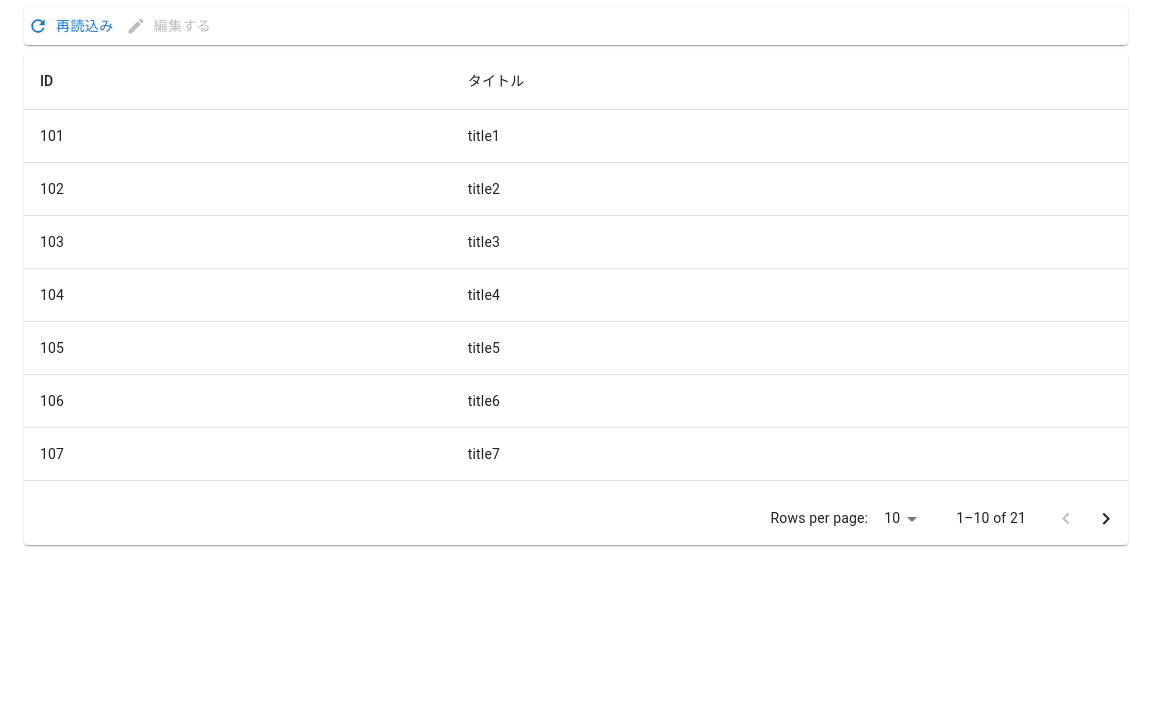
Scenario: ArticleList › ページネーション › ページ移動 › 表示件数が2ページ以上になる場合 › 末尾ページ › 次ページボタンは無効になる
This screenshot has width=1152, height=720.
Step 1. Click the button named "next" → (1106, 518), box [1086,498,1126,538]
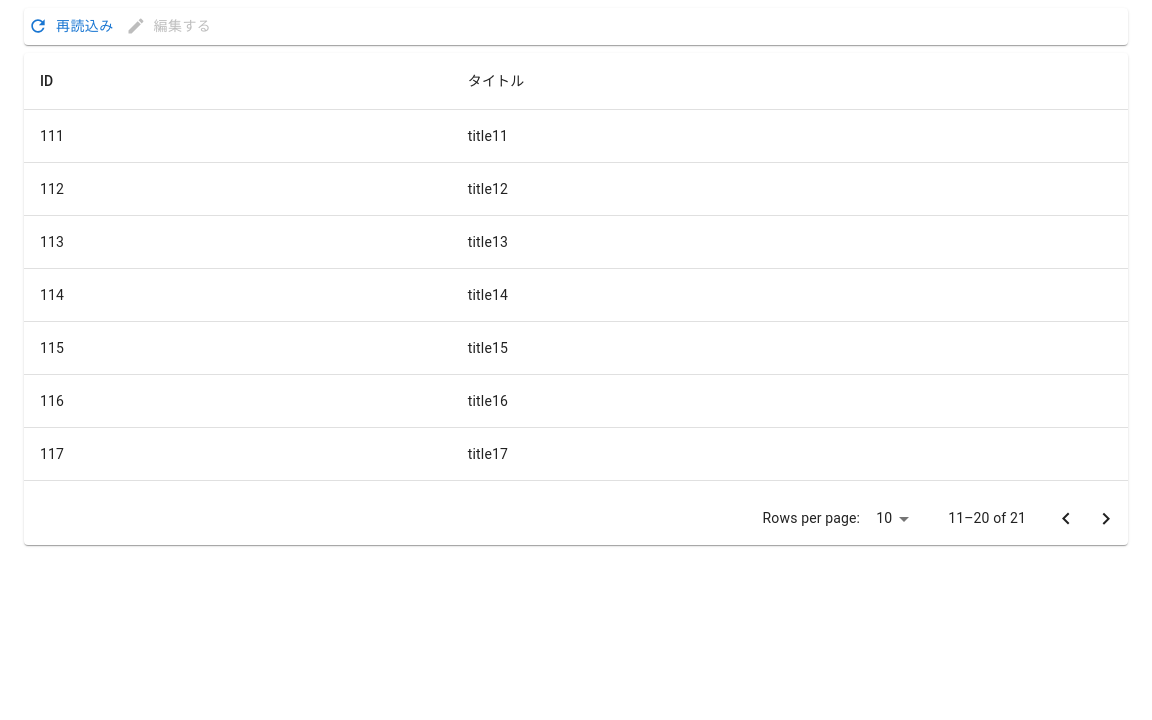
Step 2. Click the button named "next" → (1106, 518), box [1086,498,1126,538]
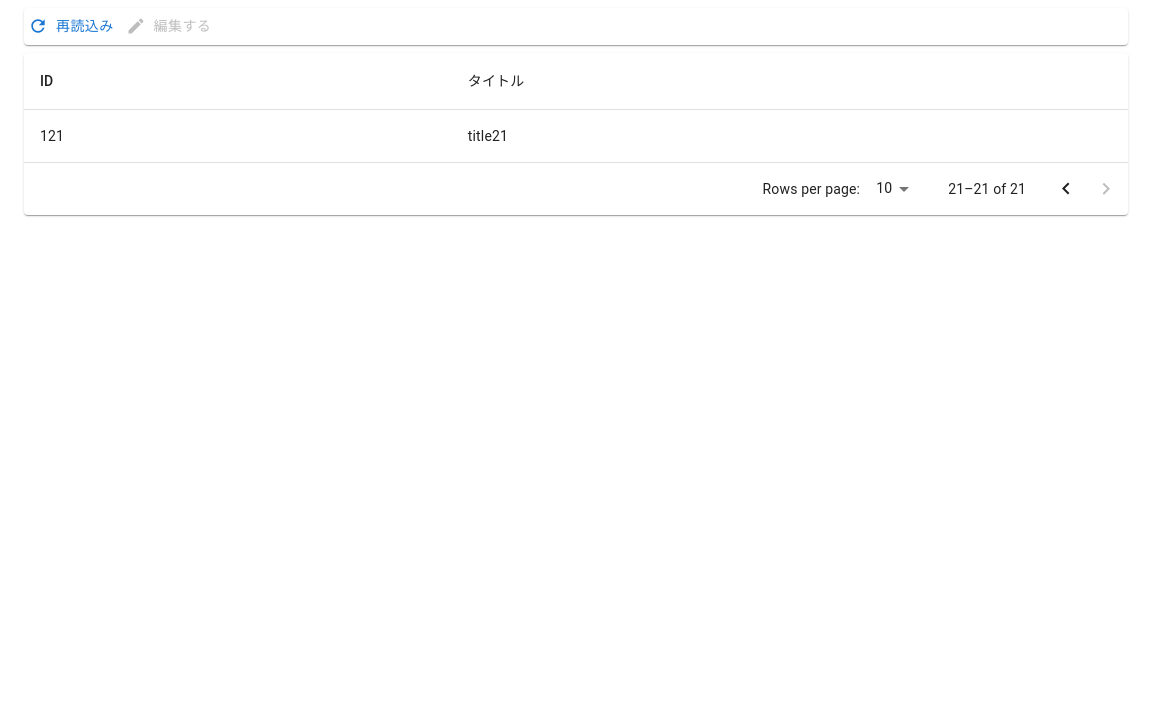
Expected: the button named "next" is disabled, [1086,168,1126,208]
